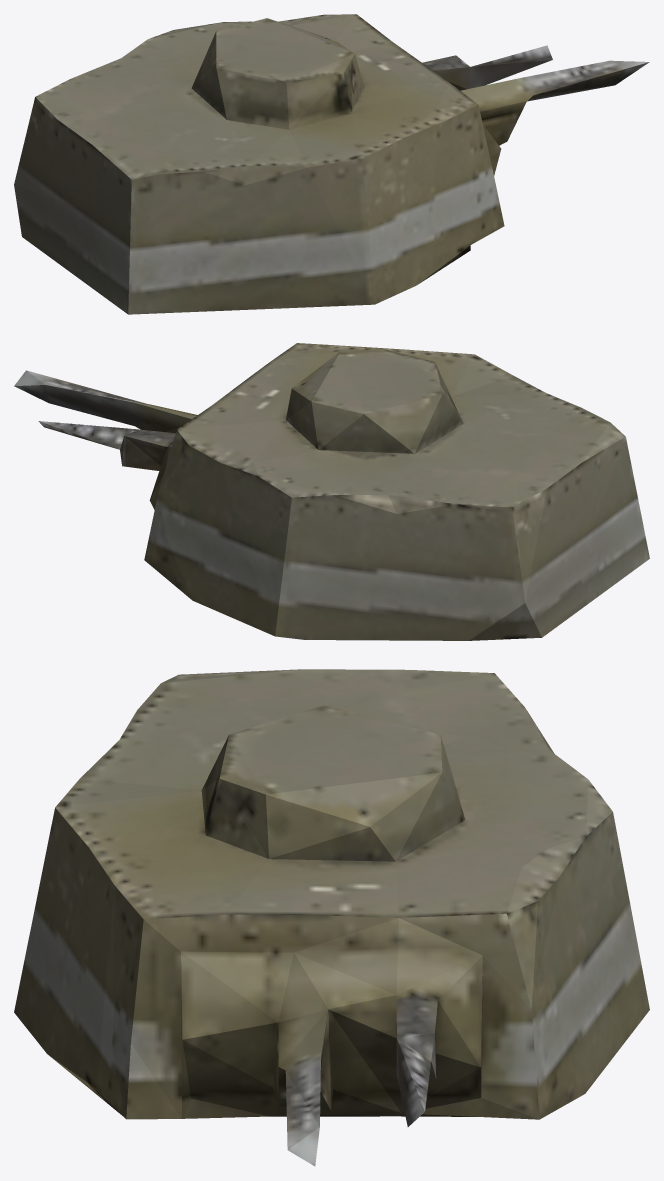
The model's file is turret.obj.
3 views of the same model, one above another, from view 1: azimuth 30°, elevation 25°; view 2: azimuth 150°, elevation 25°; view 3: azimuth 270°, elevation 25° (orthographic). The views are drawn at different scales.
Bounding box in the file's own units: 0.5144 × 0.155 × 0.3279.
1 material, 1 textured.
